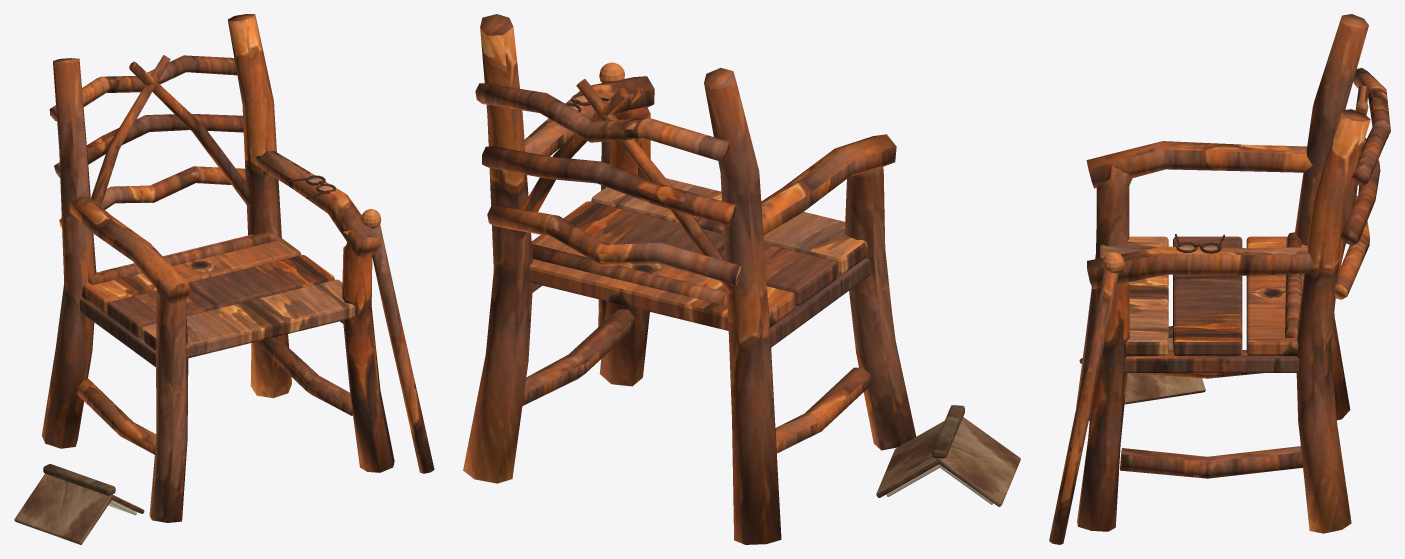
The model's file is op_root_armchair.glb.
3 views of the same model, side by side, from view 1: azimuth 30°, elevation 25°; view 2: azimuth 150°, elevation 25°; view 3: azimuth 270°, elevation 25° (orthographic). The views are drawn at different scales.
Parts seen in each view (by area): view 1: model; view 2: model; view 3: model.
Part boxes in pixels (x1,y1,x2,y2): model: (14, 14, 434, 544); model: (463, 14, 1020, 544); model: (1049, 14, 1390, 544).
Size of the model in its own units: 1.07 by 1.04 by 0.7894.
Materials: 16 (13 with a texture image).
